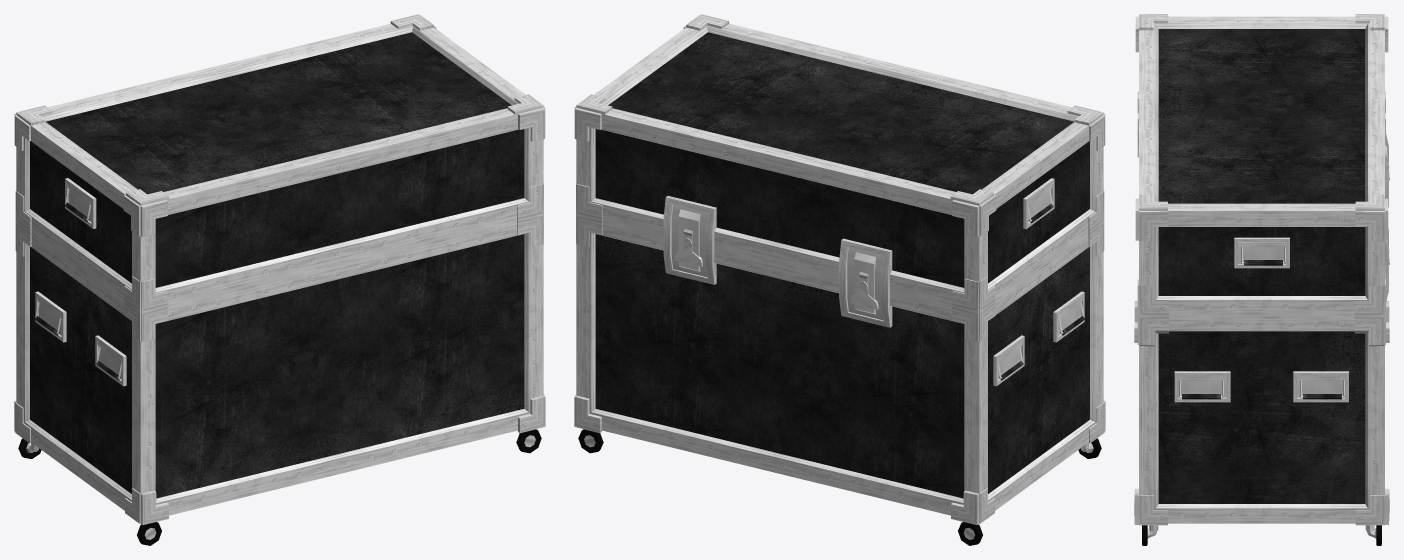
File: w_flight_case_big_1.fbx
3 renders of one model, left to right at view 1: azimuth 30°, elevation 25°; view 2: azimuth 150°, elevation 25°; view 3: azimuth 270°, elevation 25°, orthographic.
Visible parts, largest first — view 1: w_flight_case_big_1; view 2: w_flight_case_big_1; view 3: w_flight_case_big_1.
Boxes of the visible parts, x1=… form: w_flight_case_big_1: x1=14, y1=14, x2=545, y2=545; w_flight_case_big_1: x1=574, y1=14, x2=1105, y2=545; w_flight_case_big_1: x1=1134, y1=14, x2=1389, y2=545.
Bounding box in the file's own units: 1.65 × 1.33 × 0.8996.
